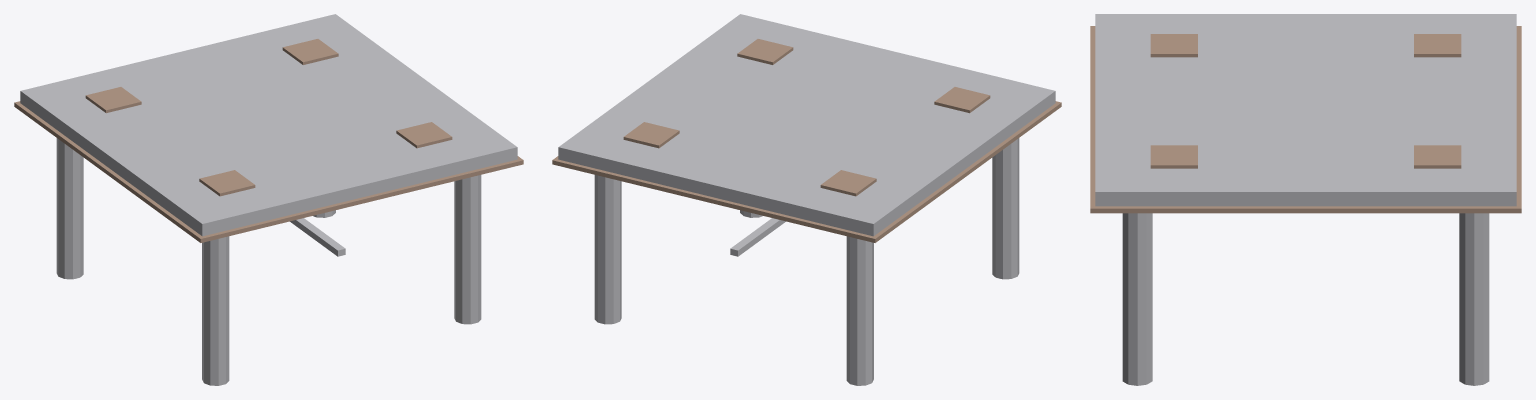
The picture shows the model from 3 angles, left to right: view 1: azimuth 30°, elevation 25°; view 2: azimuth 150°, elevation 25°; view 3: azimuth 270°, elevation 25°; orthographic projection. The views are drawn at different scales.
Parts seen in each view (by area): view 1: base; view 2: base; view 3: base.
Part boxes in pixels (x1,y1,x2,y2): base: [14, 14, 523, 385]; base: [552, 14, 1061, 385]; base: [1090, 14, 1521, 385].
Bounding box in the file's own units: 8.2 × 4.37 × 8.2.
